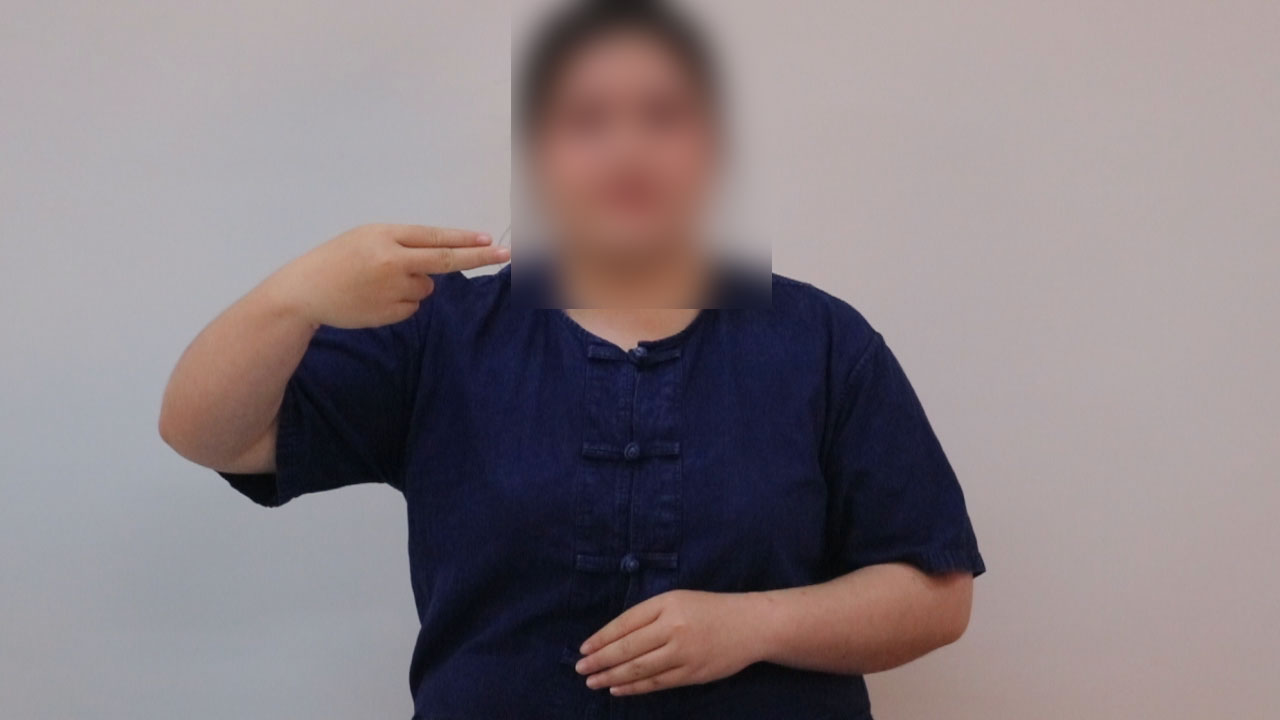hor: (282, 212, 523, 342)
